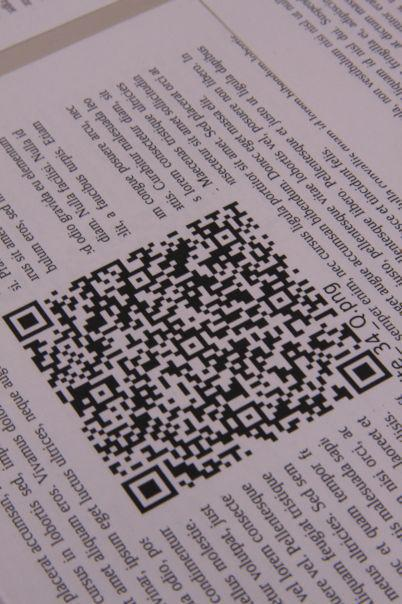Finder pattern: (119, 463, 183, 521), (337, 349, 394, 396), (3, 300, 55, 343)
